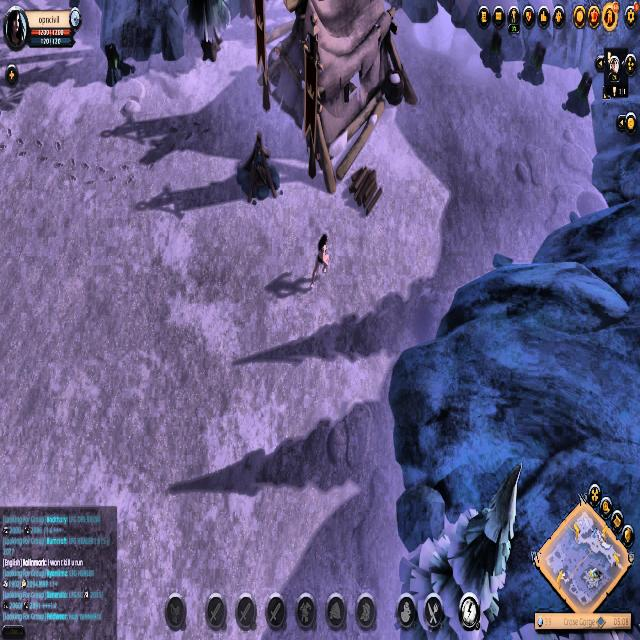tin_ore: (99, 38, 139, 89), (520, 36, 550, 90), (564, 70, 594, 117), (481, 30, 509, 80)
